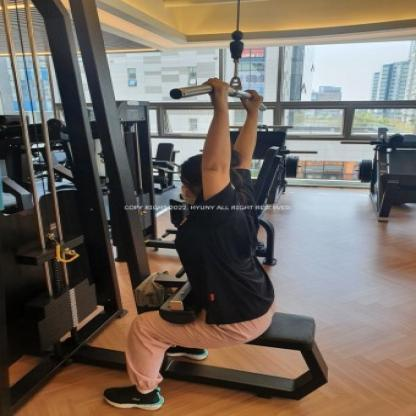Lat Pull Down: (8, 0, 336, 416)
